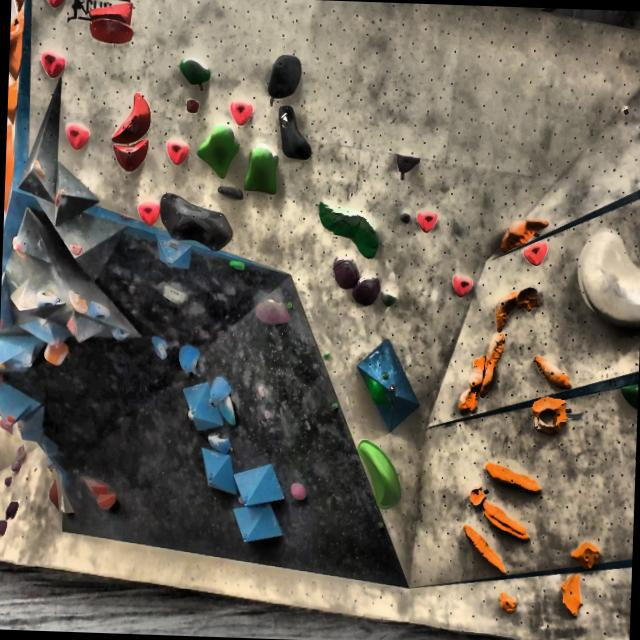Hold: (576, 221, 640, 327), (160, 190, 234, 250), (351, 436, 406, 514), (316, 202, 378, 256), (200, 119, 242, 181), (109, 92, 154, 144), (456, 526, 506, 572), (494, 216, 554, 254), (480, 458, 544, 492), (482, 500, 528, 545), (278, 103, 312, 162), (528, 394, 572, 439), (242, 140, 277, 194), (266, 49, 300, 102), (529, 354, 574, 390), (456, 354, 482, 414), (175, 52, 214, 86), (556, 569, 582, 617), (88, 20, 138, 44), (484, 328, 500, 402), (86, 0, 134, 22), (62, 118, 91, 154), (330, 256, 358, 292), (568, 540, 601, 570), (361, 374, 390, 408), (216, 394, 242, 431), (252, 298, 288, 324), (354, 276, 385, 306), (511, 283, 541, 313), (132, 202, 164, 228), (498, 286, 516, 332), (392, 150, 423, 176), (228, 99, 255, 128), (42, 48, 68, 78), (518, 242, 550, 265), (208, 371, 229, 406), (203, 428, 233, 452), (42, 342, 68, 368), (162, 140, 188, 166), (176, 344, 200, 372), (450, 271, 472, 301), (148, 330, 168, 363), (46, 476, 62, 514), (35, 284, 59, 309), (162, 284, 189, 306), (416, 210, 440, 234), (6, 498, 25, 526), (498, 588, 516, 614), (89, 294, 108, 318), (81, 476, 106, 494), (288, 482, 308, 502), (466, 487, 484, 508), (95, 492, 118, 508), (8, 236, 24, 258), (40, 0, 68, 12), (0, 413, 13, 438), (380, 292, 400, 308), (106, 329, 128, 343), (182, 97, 198, 115), (15, 442, 27, 462), (66, 241, 82, 255), (398, 208, 411, 225), (228, 260, 248, 270), (2, 474, 12, 490), (9, 464, 23, 474), (0, 518, 7, 538), (331, 398, 339, 410), (324, 351, 332, 362)
